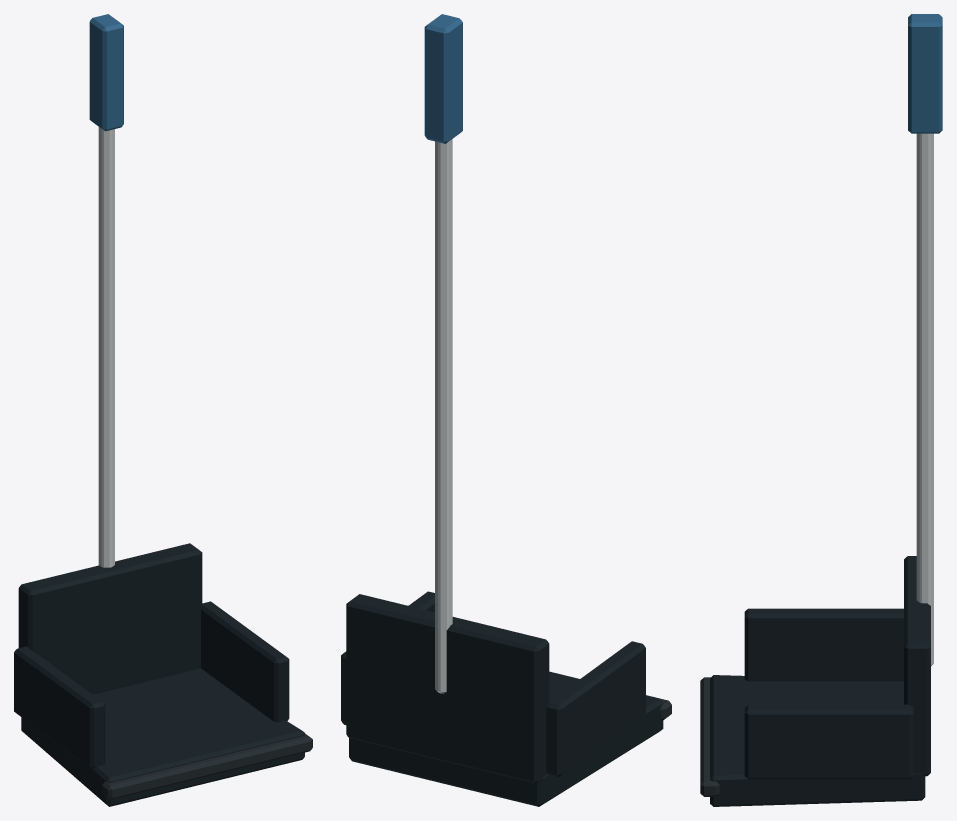
Rendered from b04_upright_lobby_dustpan.glb.
The picture shows the model from 3 angles, left to right: view 1: azimuth 30°, elevation 25°; view 2: azimuth 150°, elevation 25°; view 3: azimuth 270°, elevation 25°; orthographic projection. The views are drawn at different scales.
Parts seen in each view (by area): view 1: b04_upright_lobby_dustpan; view 2: b04_upright_lobby_dustpan; view 3: b04_upright_lobby_dustpan.
Part boxes in pixels (left/top/right/bottom): b04_upright_lobby_dustpan: left=14, top=14, right=312, bottom=806; b04_upright_lobby_dustpan: left=341, top=14, right=671, bottom=806; b04_upright_lobby_dustpan: left=700, top=14, right=942, bottom=806.
Bounding box in the file's own units: 0.33 × 1.06 × 0.315.
